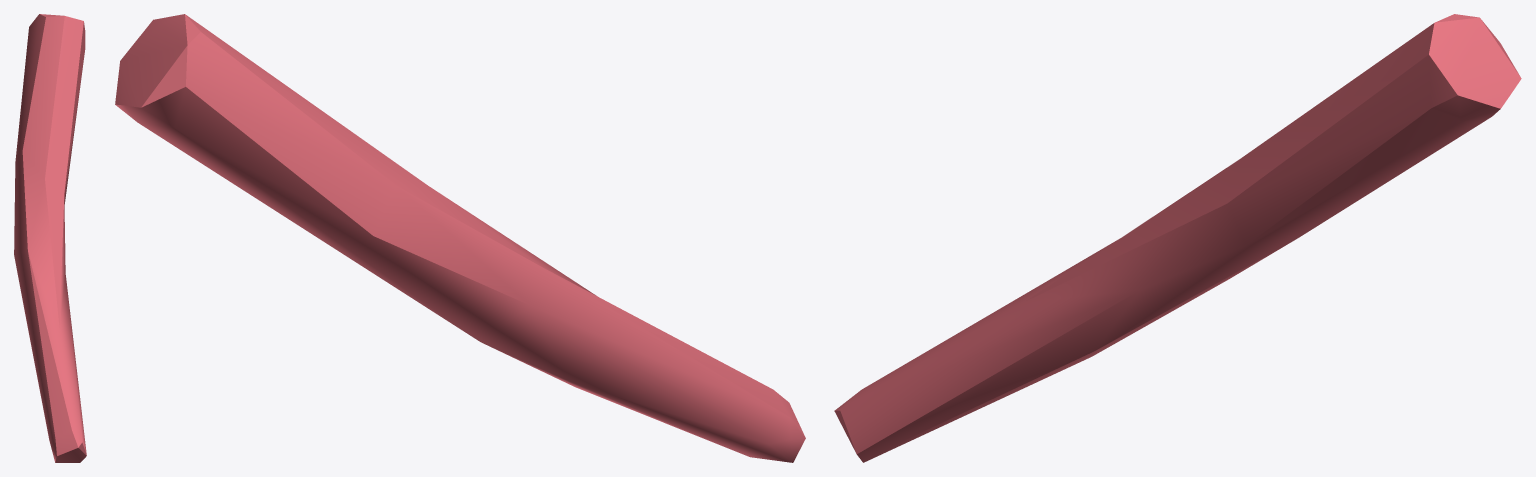
File: fma68691_fj2985.glb
3 renders of one model, left to right at view 1: azimuth 30°, elevation 25°; view 2: azimuth 150°, elevation 25°; view 3: azimuth 270°, elevation 25°, orthographic. The views are drawn at different scales.
Parts seen in each view (by area): view 1: FMA68691_FJ2985; view 2: FMA68691_FJ2985; view 3: FMA68691_FJ2985.
Part boxes in pixels (box(x1,y1,x2,y2)): FMA68691_FJ2985: box(14, 14, 86, 462); FMA68691_FJ2985: box(115, 14, 805, 462); FMA68691_FJ2985: box(834, 14, 1521, 462).
Bounding box in the file's own units: 0.0115 × 0.0177 × 0.0195.
